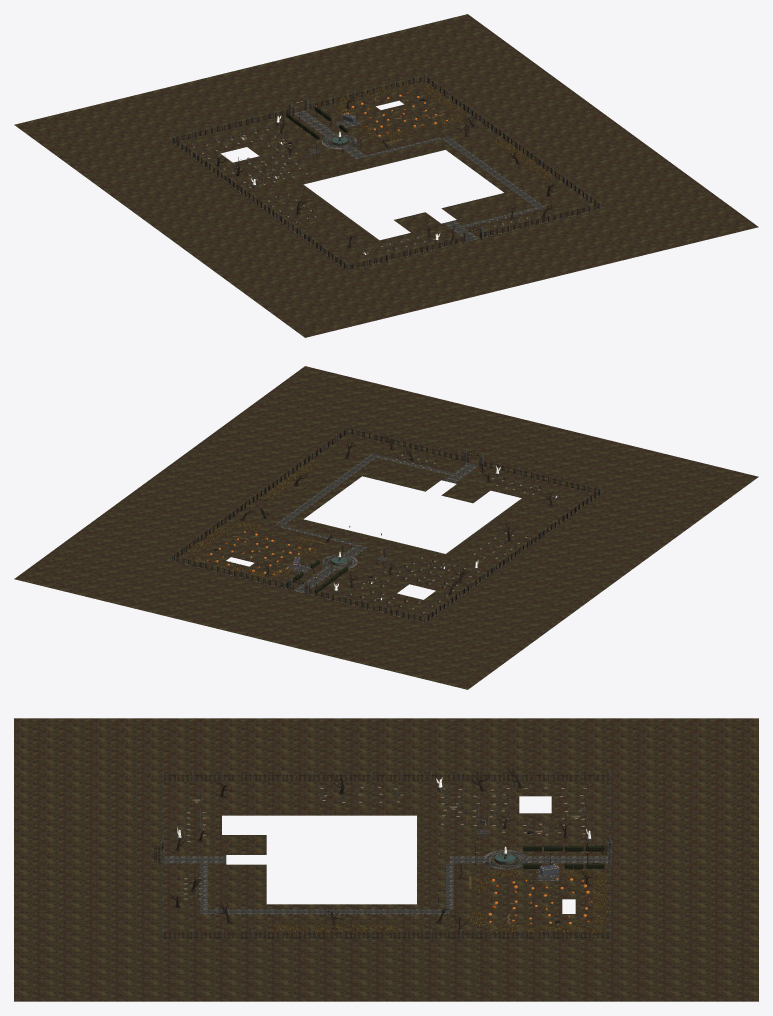
Rendered from grounds.glb.
3 renders of one model, top to bottom at view 1: azimuth 30°, elevation 25°; view 2: azimuth 150°, elevation 25°; view 3: azimuth 270°, elevation 25°, orthographic. The views are drawn at different scales.
Parts seen in each view (by area): view 1: grounds; view 2: grounds; view 3: grounds.
Part boxes in pixels (x1,y1,x2,y2): grounds: (14, 14, 758, 337); grounds: (14, 366, 758, 689); grounds: (14, 718, 758, 1001).
Size of the model in its own units: 180 by 8.37 by 200.
33 materials, 23 textured.
